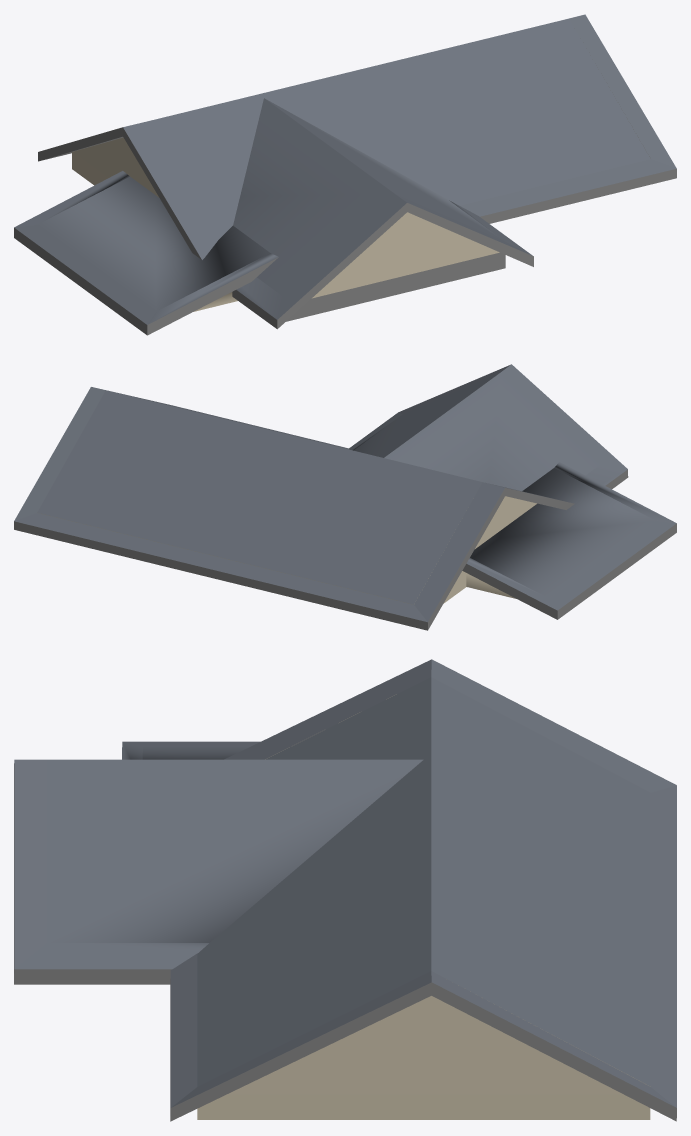
File: Maison_toit_gamejam.fbx
The picture shows the model from 3 angles, top to bottom: view 1: azimuth 30°, elevation 25°; view 2: azimuth 150°, elevation 25°; view 3: azimuth 270°, elevation 25°; orthographic projection. The views are drawn at different scales.
Visible parts, largest first — view 1: Toit; view 2: Toit; view 3: Toit.
Part boxes in pixels (x1,y1,x2,y2): Toit: (14,14,676,335); Toit: (14,364,676,630); Toit: (14,659,676,1121).
Size of the model in its own units: 2627 by 500 by 1928.
